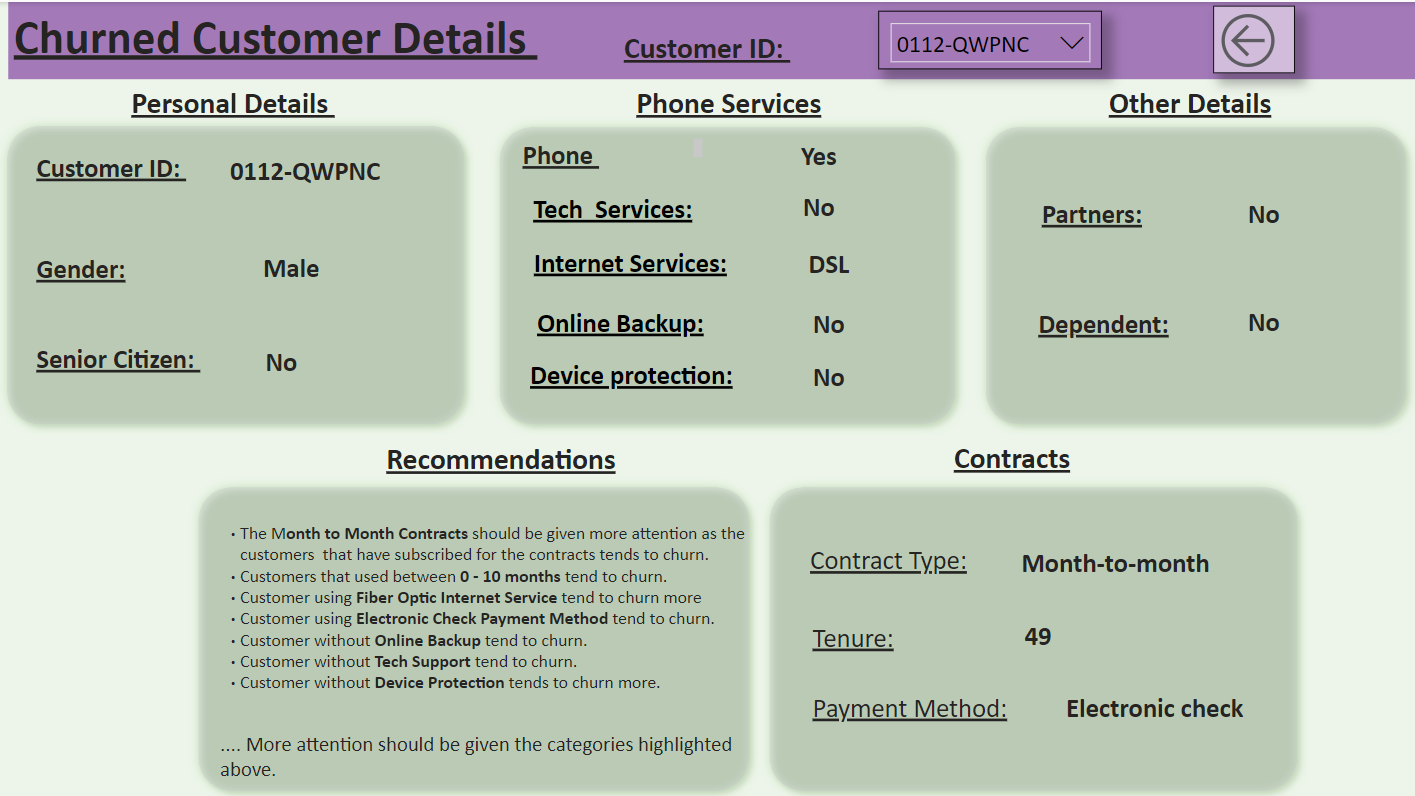

What the dashboard file says about the page in this screenshot:
{"tool":"powerbi","page":{"name":"Churned Details","canvas":[1280,720],"ordinal":1},"visuals":[{"type":"textbox","box":[9.8,0,1270.1,69.7],"z":0},{"type":"textbox","box":[559.9,20.8,196.8,48.9],"z":1000},{"type":"shape","box":[0,102.7,430.3,287.3],"z":2000},{"type":"shape","box":[443.7,103.9,429.1,286],"z":3000},{"type":"shape","box":[882.6,103.9,397.3,286],"z":4000},{"type":"shape","box":[172.4,427.8,514.6,292.2],"z":5000},{"type":"shape","box":[687,427.8,493.9,292.2],"z":6000},{"type":"textbox","box":[345.9,391.2,253,48.9],"z":7000},{"type":"textbox","box":[831.2,415.6,12.2,48.9],"z":8000},{"type":"textbox","box":[570.9,69.7,196.8,48.9],"z":9000},{"type":"textbox","box":[997.5,69.7,196.8,48.9],"z":10000},{"type":"textbox","box":[116.1,69.7,198,48.9],"z":11000},{"type":"textbox","box":[856.9,389.9,139.4,48.9],"z":12000},{"type":"textbox","box":[30.6,129.6,198,48.9],"z":13000},{"type":"textbox","box":[9.8,188.3,198,48.9],"z":14000},{"type":"textbox","box":[30.6,221.3,198,48.9],"z":15000},{"type":"textbox","box":[30.6,301.9,198,48.9],"z":16000},{"type":"textbox","box":[468.2,118.6,172.4,41.6],"z":17000},{"type":"textbox","box":[446.2,166.2,217.6,44],"z":18000},{"type":"textbox","box":[453.5,215.1,235.9,44],"z":19000},{"type":"textbox","box":[464.5,316.6,215.1,44],"z":20000},{"type":"textbox","box":[930.3,171.1,112.5,41.6],"z":21000},{"type":"textbox","box":[900.9,270.2,191.9,41.6],"z":22000},{"type":"textbox","box":[729.8,553.8,136.9,41.6],"z":23000},{"type":"textbox","box":[727.3,482.9,199.3,41.6],"z":24000},{"type":"textbox","box":[729.8,616.1,222.5,41.6],"z":25000},{"type":"slicer","fields":{"Values":["Churned Customers.customerID"]},"box":[794.6,7.3,201.7,52.6],"z":26000},{"type":"card","fields":{"Values":["Min(Churned Customers.customerID)"]},"box":[198,134.5,158.9,36.7],"z":27000},{"type":"card","fields":{"Values":["Min(Churned Customers.SeniorCitizen)"]},"box":[198,306.8,116.1,36.7],"z":28000},{"type":"card","fields":{"Values":["Min(Churned Customers.gender)"]},"box":[207.8,222.5,116.1,36.7],"z":29000},{"type":"textbox","box":[401,268.9,321.5,42.8],"z":30000},{"type":"card","fields":{"Values":["Min(Churned Customers.PhoneService)"]},"box":[661.3,121,158.9,36.7],"z":31000},{"type":"card","fields":{"Values":["Min(Telco Churn Data.InternetService)"]},"box":[669.9,218.8,158.9,36.7],"z":32000},{"type":"card","fields":{"Values":["Min(Telco Churn Data.TechSupport)"]},"box":[661.3,166.2,158.9,36.7],"z":33000},{"type":"card","fields":{"Values":["Min(Telco Churn Data.OnlineBackup)"]},"box":[669.9,272.6,158.9,36.7],"z":34000},{"type":"card","fields":{"Values":["Min(Telco Churn Data.DeviceProtection)"]},"box":[669.9,320.3,158.9,36.7],"z":35000},{"type":"card","fields":{"Values":["Min(Telco Churn Data.Partner)"]},"box":[1062.3,173.6,158.9,36.7],"z":36000},{"type":"card","fields":{"Values":["Min(Telco Churn Data.Dependents)"]},"box":[1062.3,270.2,158.9,36.7],"z":37000},{"type":"card","fields":{"Values":["Min(Telco Churn Data.Contract)"]},"box":[900.9,487.7,213.9,36.7],"z":38000},{"type":"card","fields":{"Values":["Sum(Churned Customers.tenure)"]},"box":[831.2,553.8,213.9,36.7],"z":39000},{"type":"card","fields":{"Values":["Min(Churned Customers.PaymentMethod)"]},"box":[916.8,618.5,253,36.7],"z":40000},{"type":"actionButton","box":[1096.5,3.7,73.3,61.1],"z":41000},{"type":"textbox","box":[195.6,464.5,491.4,248.1],"z":42000}]}

Visuals, with their boxes in screenshot pixels (x1, y1, x2, y2), scaled from the page's 1280x720 canvas onto the 1415x796 screenshot:
textbox: 11/0/1414/77
textbox: 619/23/837/77
shape: 0/114/476/431
shape: 490/115/965/431
shape: 976/115/1414/431
shape: 191/473/759/795
shape: 759/473/1305/795
textbox: 382/432/662/487
textbox: 919/459/932/514
textbox: 631/77/849/131
textbox: 1103/77/1320/131
textbox: 128/77/347/131
textbox: 947/431/1101/485
textbox: 34/143/253/197
textbox: 11/208/230/262
textbox: 34/245/253/299
textbox: 34/334/253/388
textbox: 518/131/708/177
textbox: 493/184/734/232
textbox: 501/238/762/286
textbox: 513/350/751/399
textbox: 1028/189/1153/235
textbox: 996/299/1208/345
textbox: 807/612/958/658
textbox: 804/534/1024/580
textbox: 807/681/1053/727
slicer - Churned Customers.customerID: 878/8/1101/66
card - Min(Churned Customers.customerID): 219/149/395/189
card - Min(Churned Customers.SeniorCitizen): 219/339/347/380
card - Min(Churned Customers.gender): 230/246/358/287
textbox: 443/297/799/345
card - Min(Churned Customers.PhoneService): 731/134/907/174
card - Min(Telco Churn Data.InternetService): 741/242/916/282
card - Min(Telco Churn Data.TechSupport): 731/184/907/224
card - Min(Telco Churn Data.OnlineBackup): 741/301/916/342
card - Min(Telco Churn Data.DeviceProtection): 741/354/916/395
card - Min(Telco Churn Data.Partner): 1174/192/1350/232
card - Min(Telco Churn Data.Dependents): 1174/299/1350/339
card - Min(Telco Churn Data.Contract): 996/539/1232/580
card - Sum(Churned Customers.tenure): 919/612/1155/653
card - Min(Churned Customers.PaymentMethod): 1013/684/1293/724
actionButton: 1212/4/1293/72
textbox: 216/514/759/788
